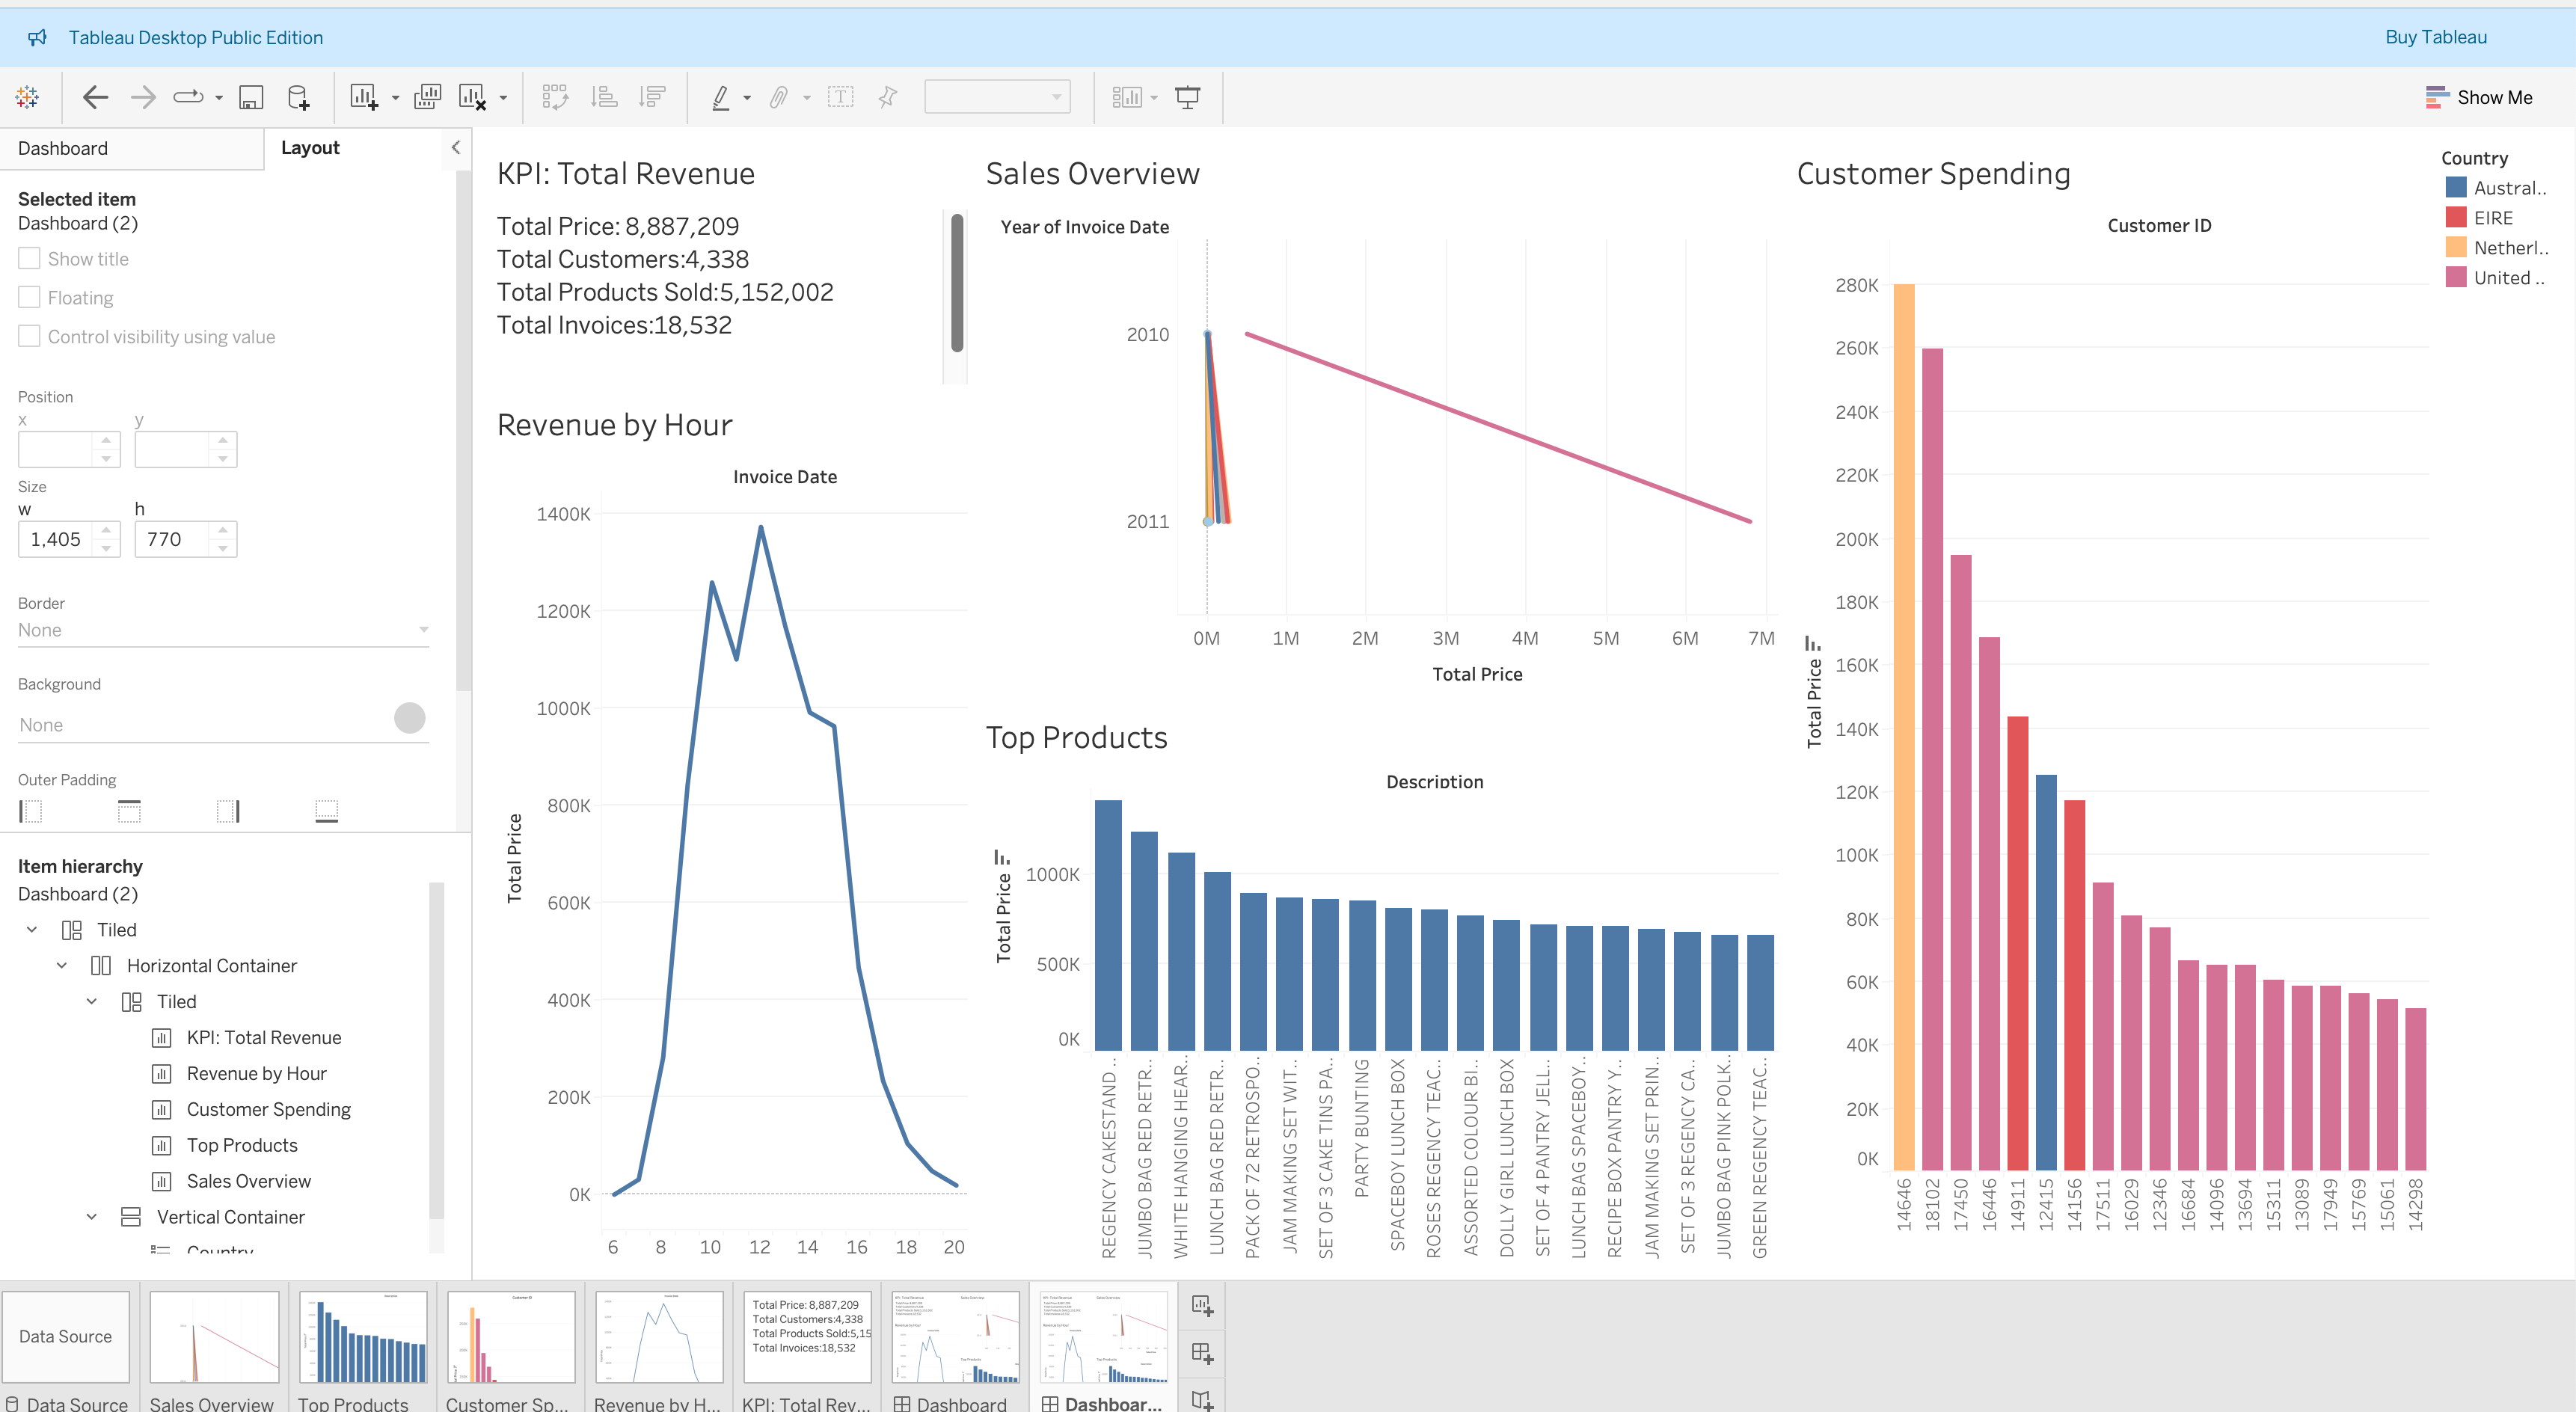

The dashboard page shown, as its layout file describes it:
{"tool":"tableau","page":{"name":"Dashboard (2)","canvas":[1000,1000],"units":"permille","ordinal":1},"visuals":[{"type":"worksheet","title":"KPI: Total Revenue","mark":"Text","box":[5.7,10.4,232.9,218.1]},{"type":"worksheet","title":"Sales Overview","mark":"Automatic","rows":["InvoiceDate"],"cols":["TotalPrice"],"box":[238.6,10.4,385.7,489.6]},{"type":"worksheet","title":"Customer Spending","mark":"Automatic","rows":["TotalPrice"],"cols":["CustomerID"],"box":[624.3,10.4,309.5,979.2]},{"type":"legend","title":"Customer Spending","param":"[federated.0crgzyu0kh6ow21ey02sk0epwogw].[none:Country:nk]","box":[933.8,10.4,60.5,137.7]},{"type":"worksheet","title":"Revenue by Hour","mark":"Automatic","rows":["TotalPrice"],"cols":["InvoiceDate"],"box":[5.7,228.5,232.9,761.2]},{"type":"worksheet","title":"Top Products","mark":"Bar","rows":["TotalPrice"],"cols":["Description"],"box":[238.6,500,385.7,489.6]}]}

Visuals, with their boxes on the dashboard's canvas, which has no fixed pixel size, in thousandths of its width and height (x1, y1, x2, y2). These are canvas units, not pixel positions in the 2576x1412 screenshot, which may show the page scaled, cropped or inside an application window:
"KPI: Total Revenue" worksheet (Text marks): [6,10,239,228]
"Sales Overview" worksheet: [239,10,624,500]
"Customer Spending" worksheet: [624,10,934,990]
"Customer Spending" legend: [934,10,994,148]
"Revenue by Hour" worksheet: [6,228,239,990]
"Top Products" worksheet (Bar marks): [239,500,624,990]
